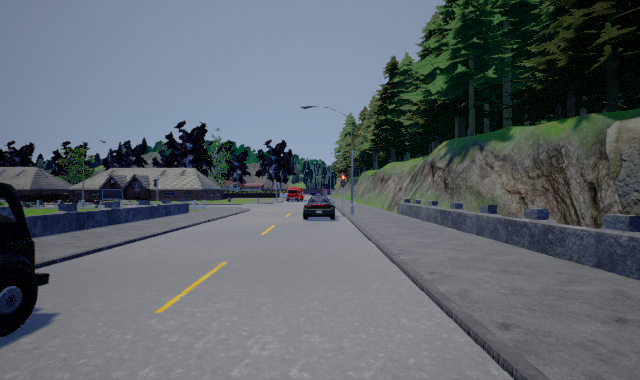traffic_light: (340, 174, 346, 189)
vehicle: (1, 182, 50, 338), (303, 195, 334, 220), (284, 186, 304, 201)
